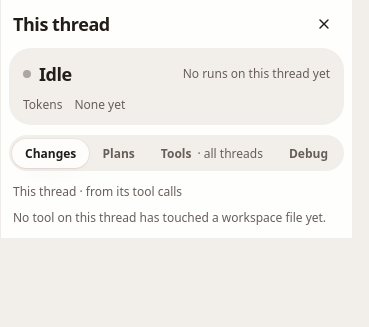
the plans tab › says "This thread" when every row names it
This screenshot has width=369, height=327.
Click the tab "Plans" at (119, 153), box top-left (89, 139), bottom-right (148, 168)
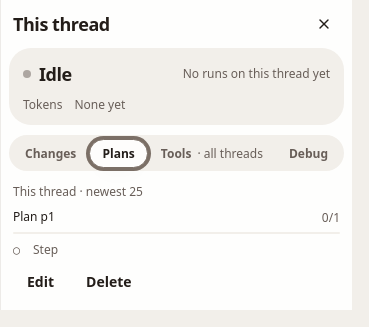
Check: the text "This thread · newest 25" is shown, box top-left (13, 183), bottom-right (143, 200)
Check: the heading "Plan p1" is shown, box top-left (13, 209), bottom-right (55, 225)
